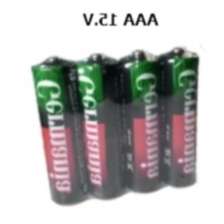battery: (28, 54, 93, 209), (71, 50, 131, 203), (116, 48, 166, 196), (155, 43, 201, 190)
